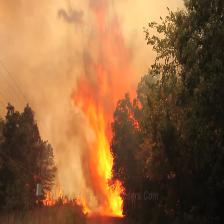smoke: (49, 1, 169, 224)
